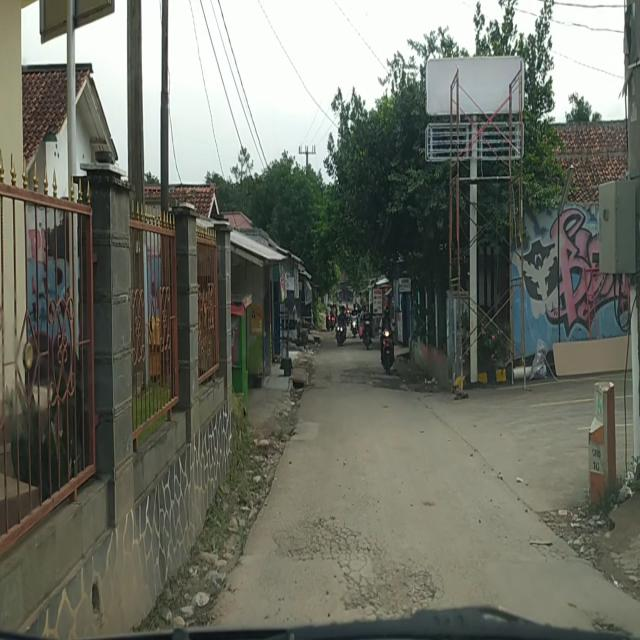Drain Hole: (267, 508, 433, 615)
